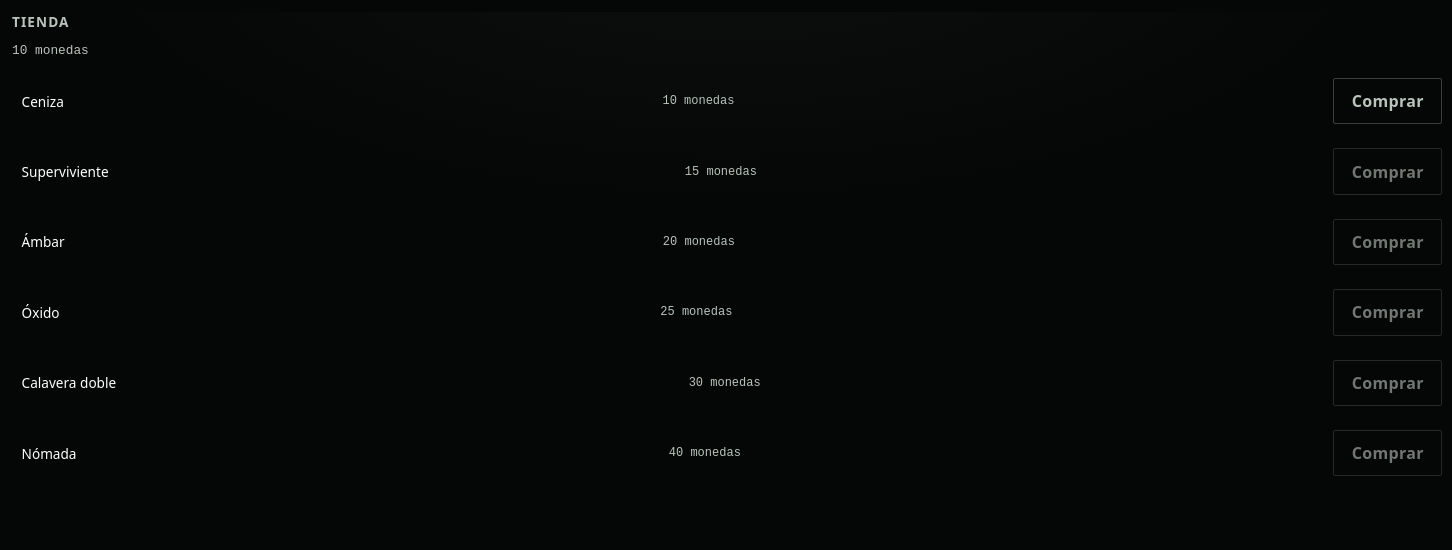
ShopPanel › usa su propio mensaje cuando el rechazo no trae ninguno aprovechable
Expected: the text with class "shop-panel__balance" is shown, [12,43,89,58]
What coordinates should you click on to do the following:
click the button "Comprar" in the row of "Ceniza"
I would click on:
 (1388, 101)
Its box is [1333,78,1442,124].
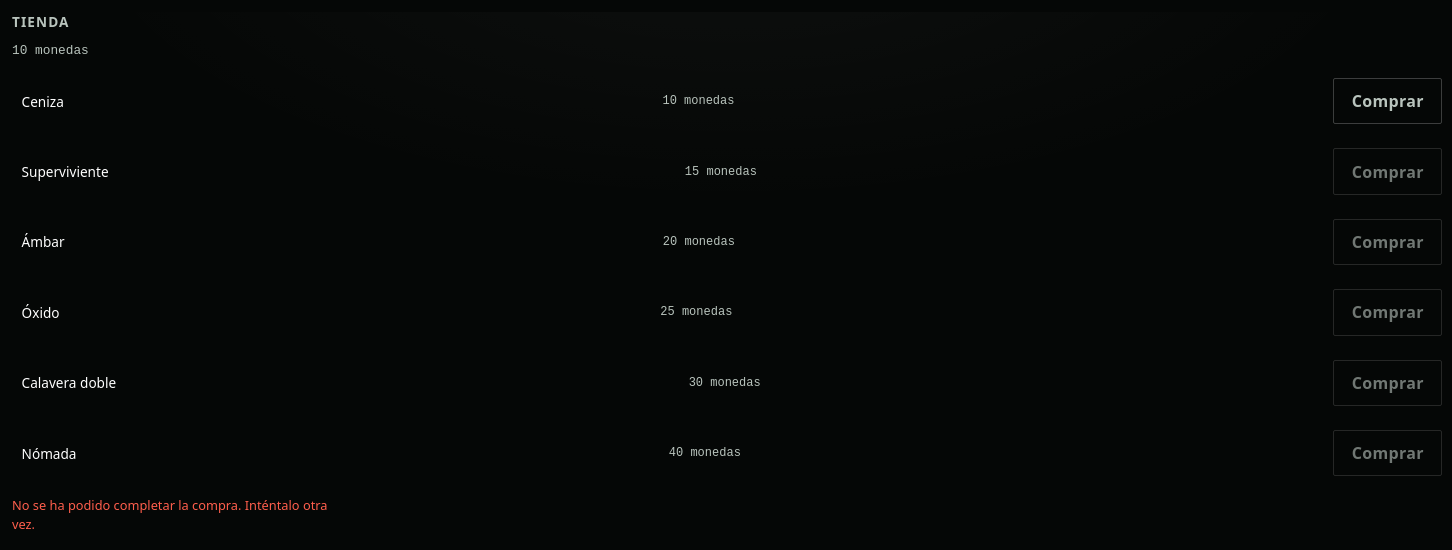
Expected: the message reads "No se ha podido completar la compra. Inténtalo otra vez.", [12,496,328,534]
